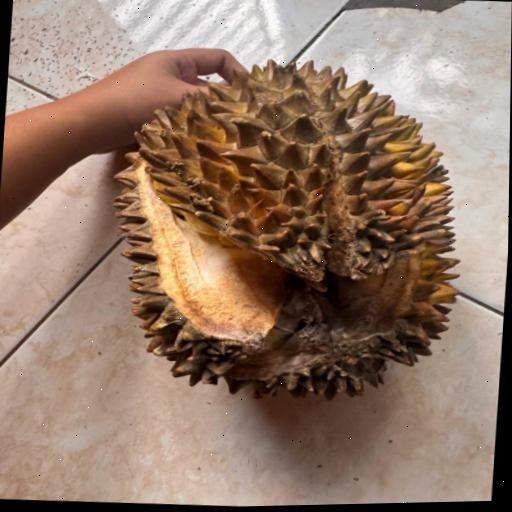rot: (82, 20, 509, 432)
